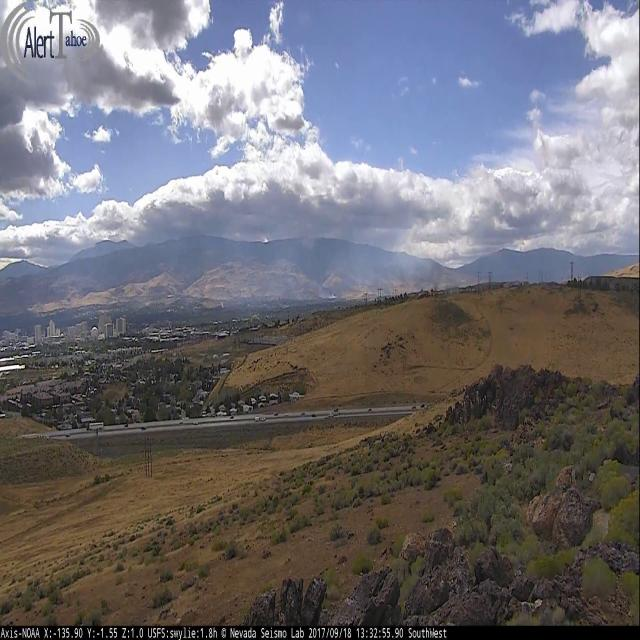smoke: (318, 290, 336, 298)
